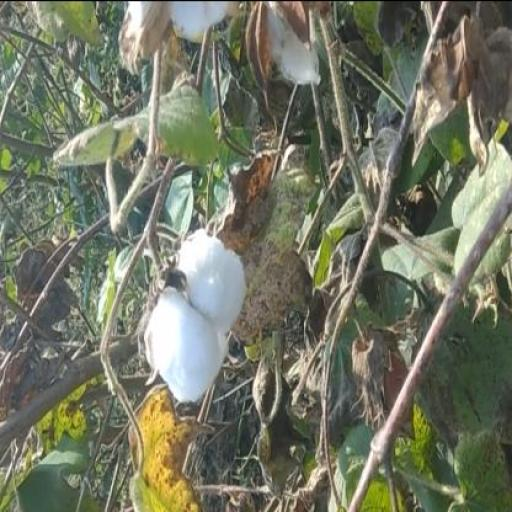cotton_ready: (132, 208, 257, 439)
